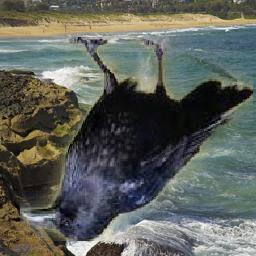Crow: (21, 37, 254, 241)
